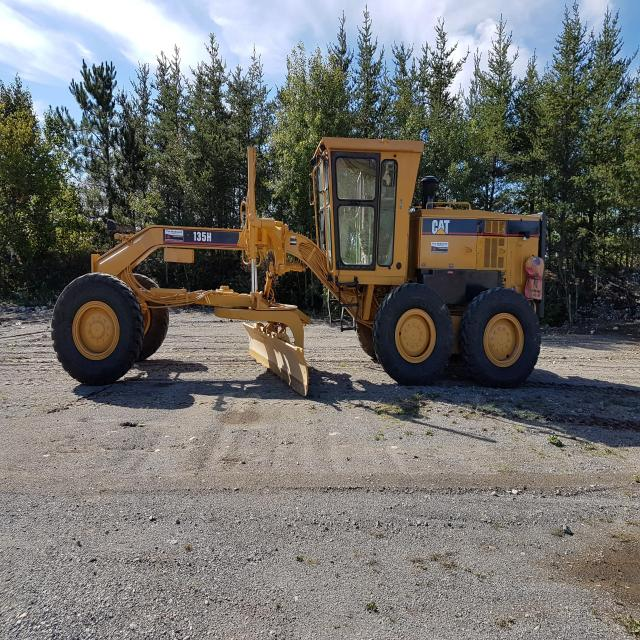Grader: (52, 121, 571, 406)
